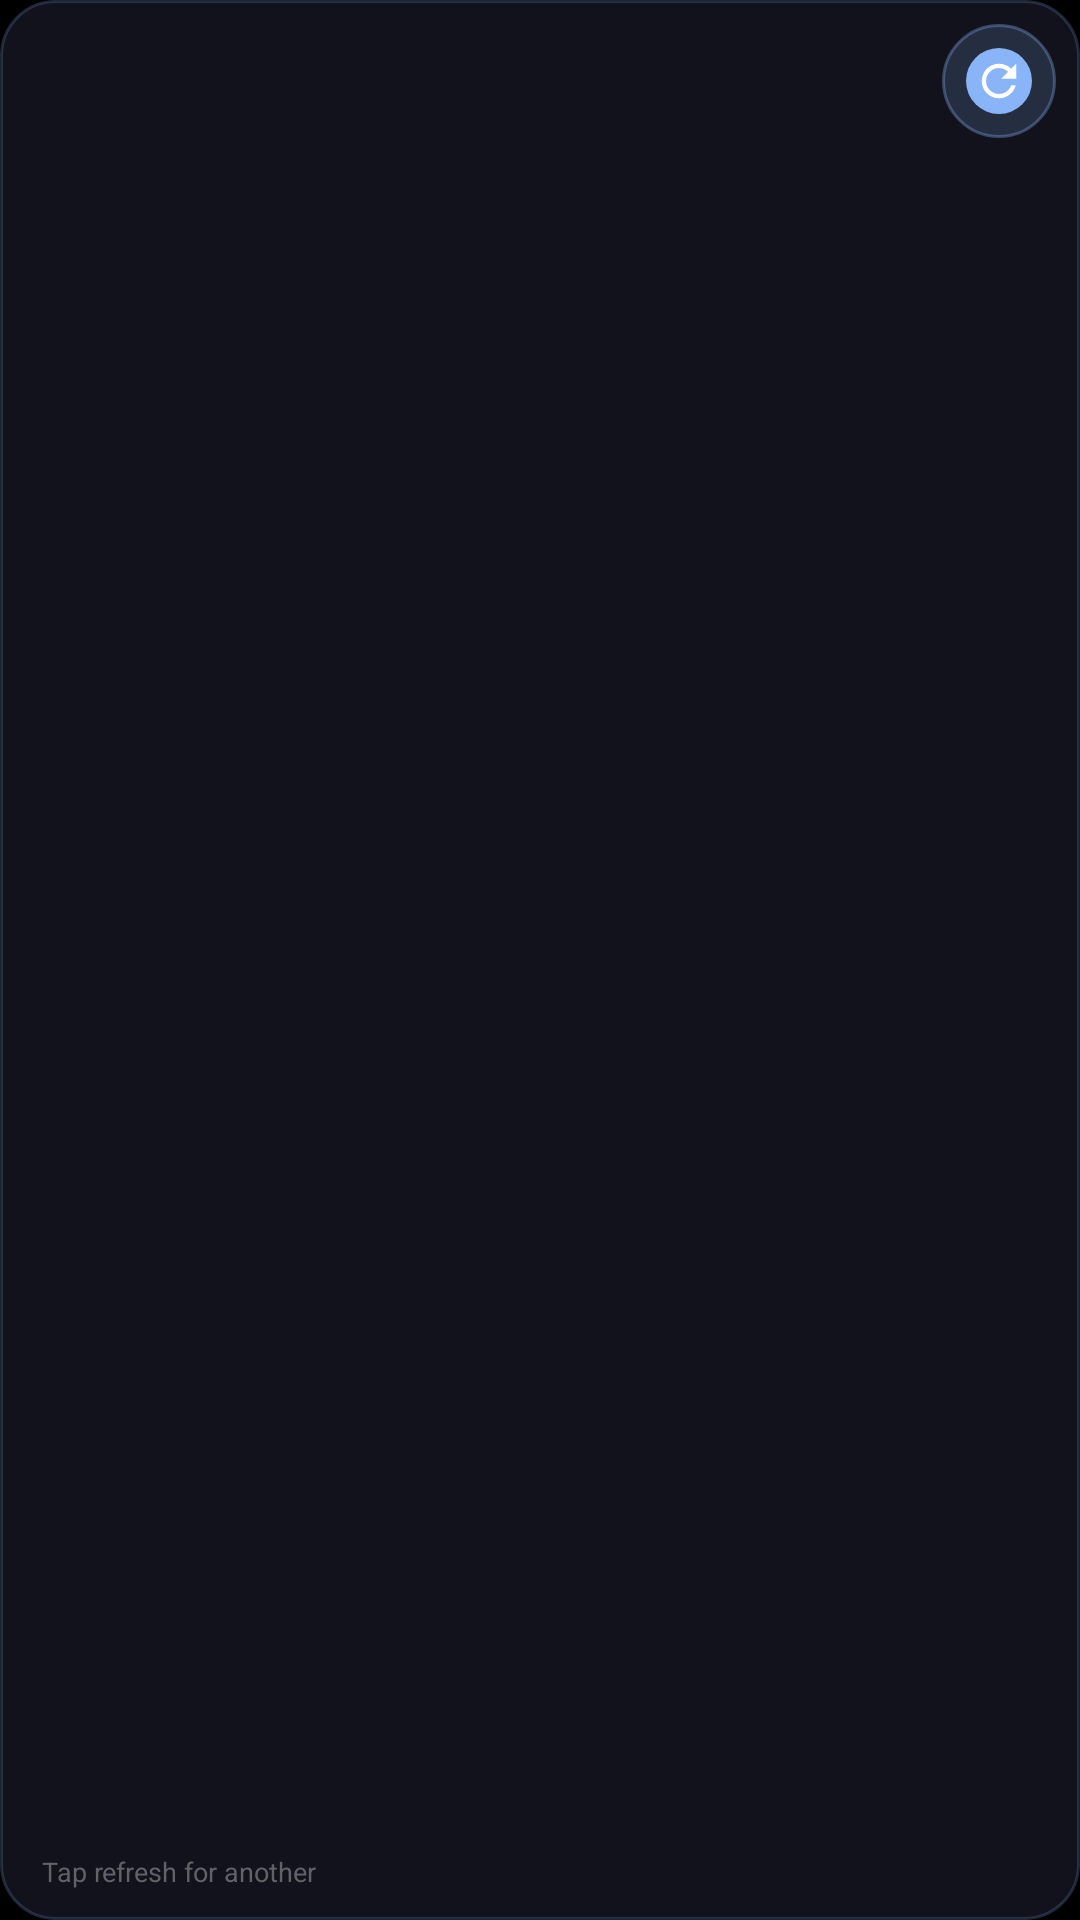

Point at icon controls on the screen. Image size 1080x1920, points as [x,y].
New random compound: [999,81]
